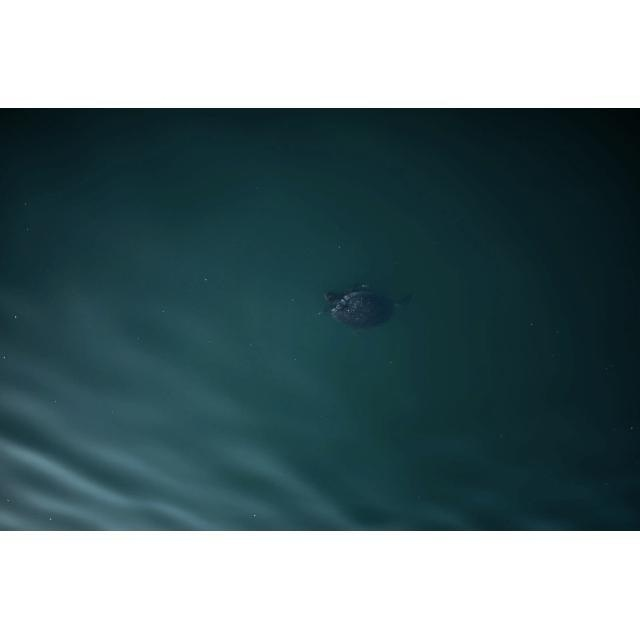turtle: (321, 281, 414, 330)
